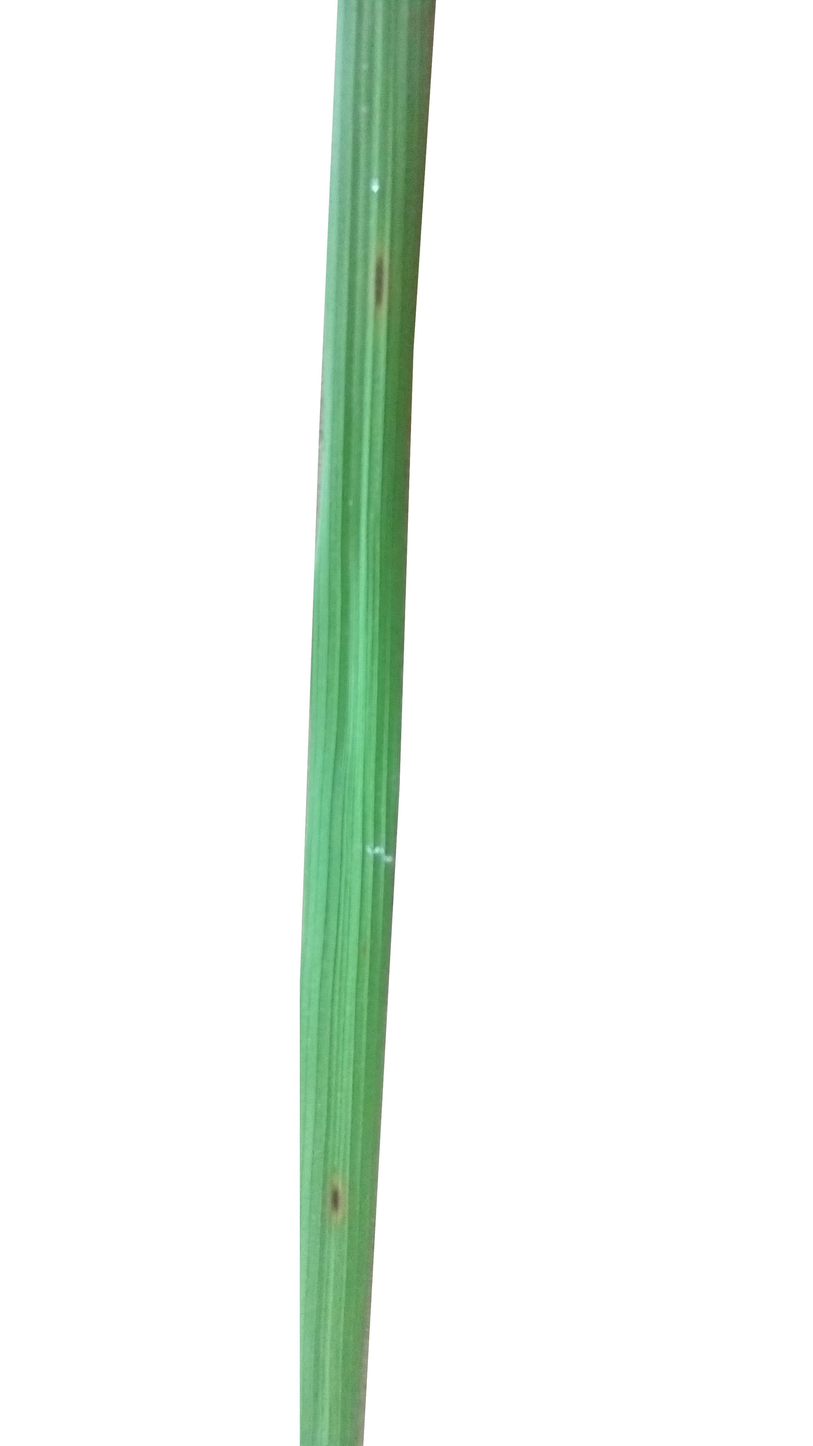Brown spot: (365, 227, 404, 343), (318, 1156, 354, 1251)
